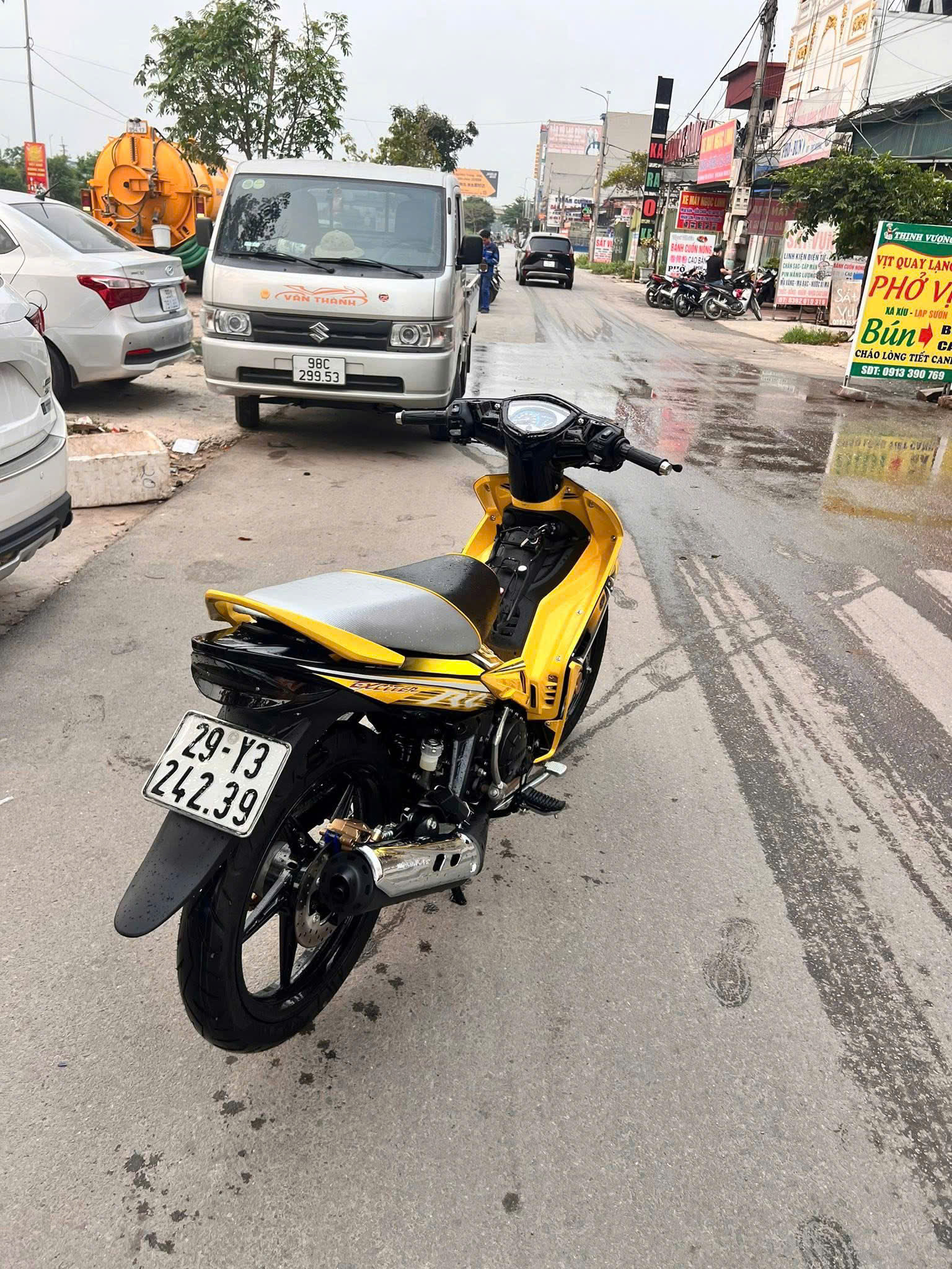Bien-so: (140, 713, 289, 834)
